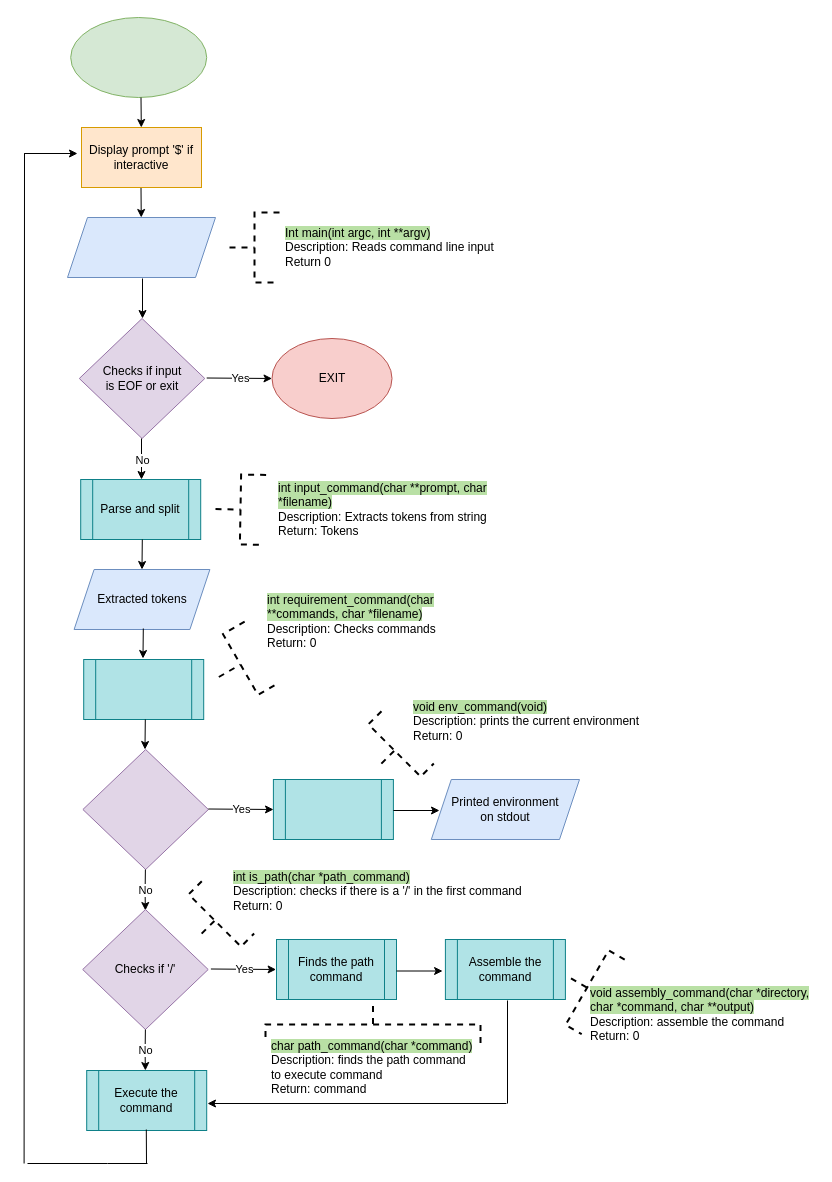
This 832x1182 diagram has some shape labels left out. The shapes that lost their labels are listed below. From the top down, each one's centre as x and y in pixels, then its label:
point 138,57: START SHELL PROGRAM
point 141,247: Command input
point 143,689: Checks commands before execution
point 145,809: Checks if "env"
point 332,809: Prints the current environment
